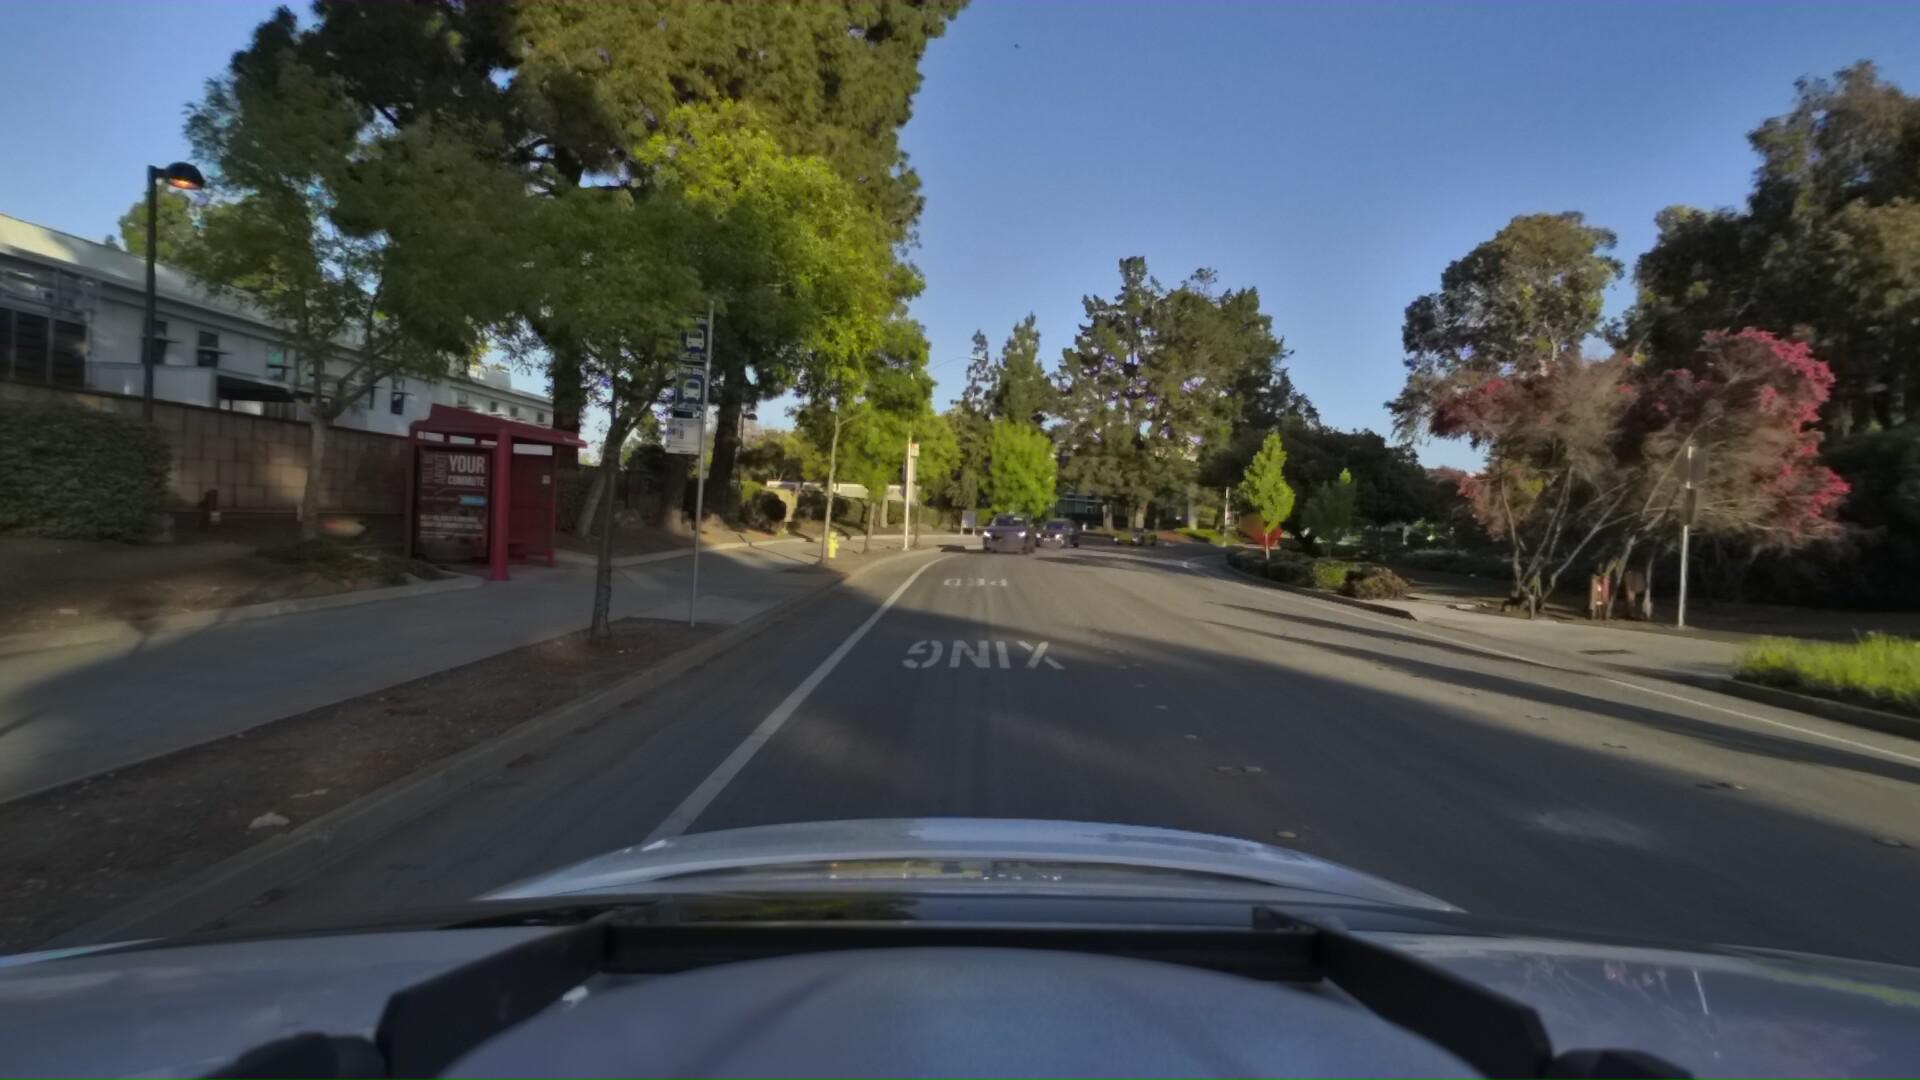car: (977, 501, 1039, 551), (1019, 506, 1077, 545), (1100, 517, 1155, 542)
